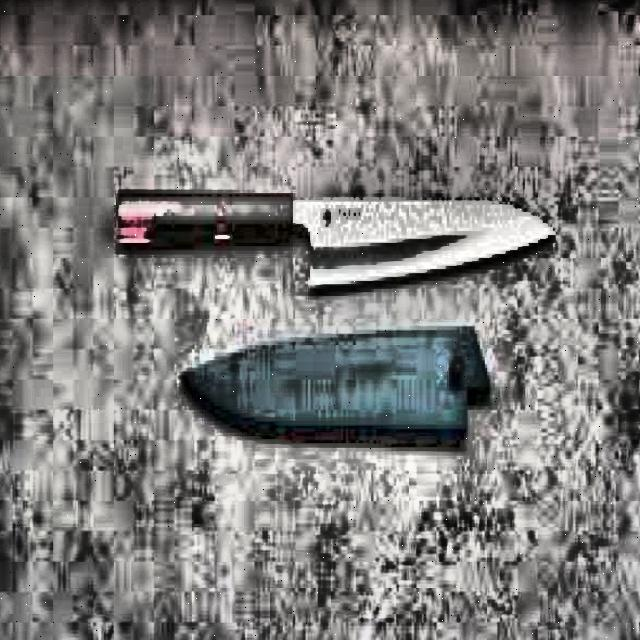knife: (113, 178, 562, 296)
